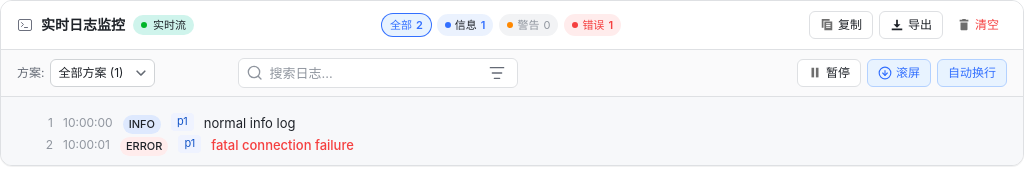
it: LogDashboard (日志监控组件) › 点击错误/警告等统计指标徽标直接联动级别筛选
The width and height of the screenshot is (1024, 184).
Expected: the text "normal info log" is shown, [204,115,295,131]
Expected: the text "fatal connection failure" is shown, [211,137,354,153]
Note: 点击错误指标徽标
Click the button titled "快速筛选 ERROR 级别".
click(593, 25)  # box [564,14,621,36]
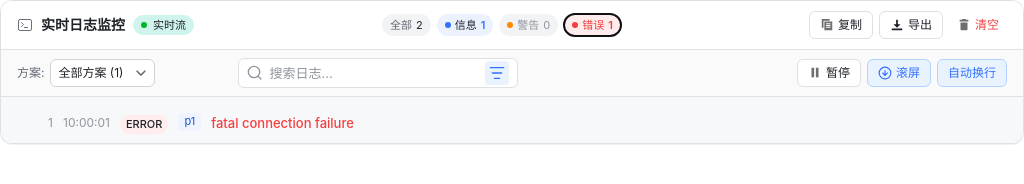
Expected: the text "fatal connection failure" is shown, [211,115,354,131]
Result: the text "normal info log" is gone
